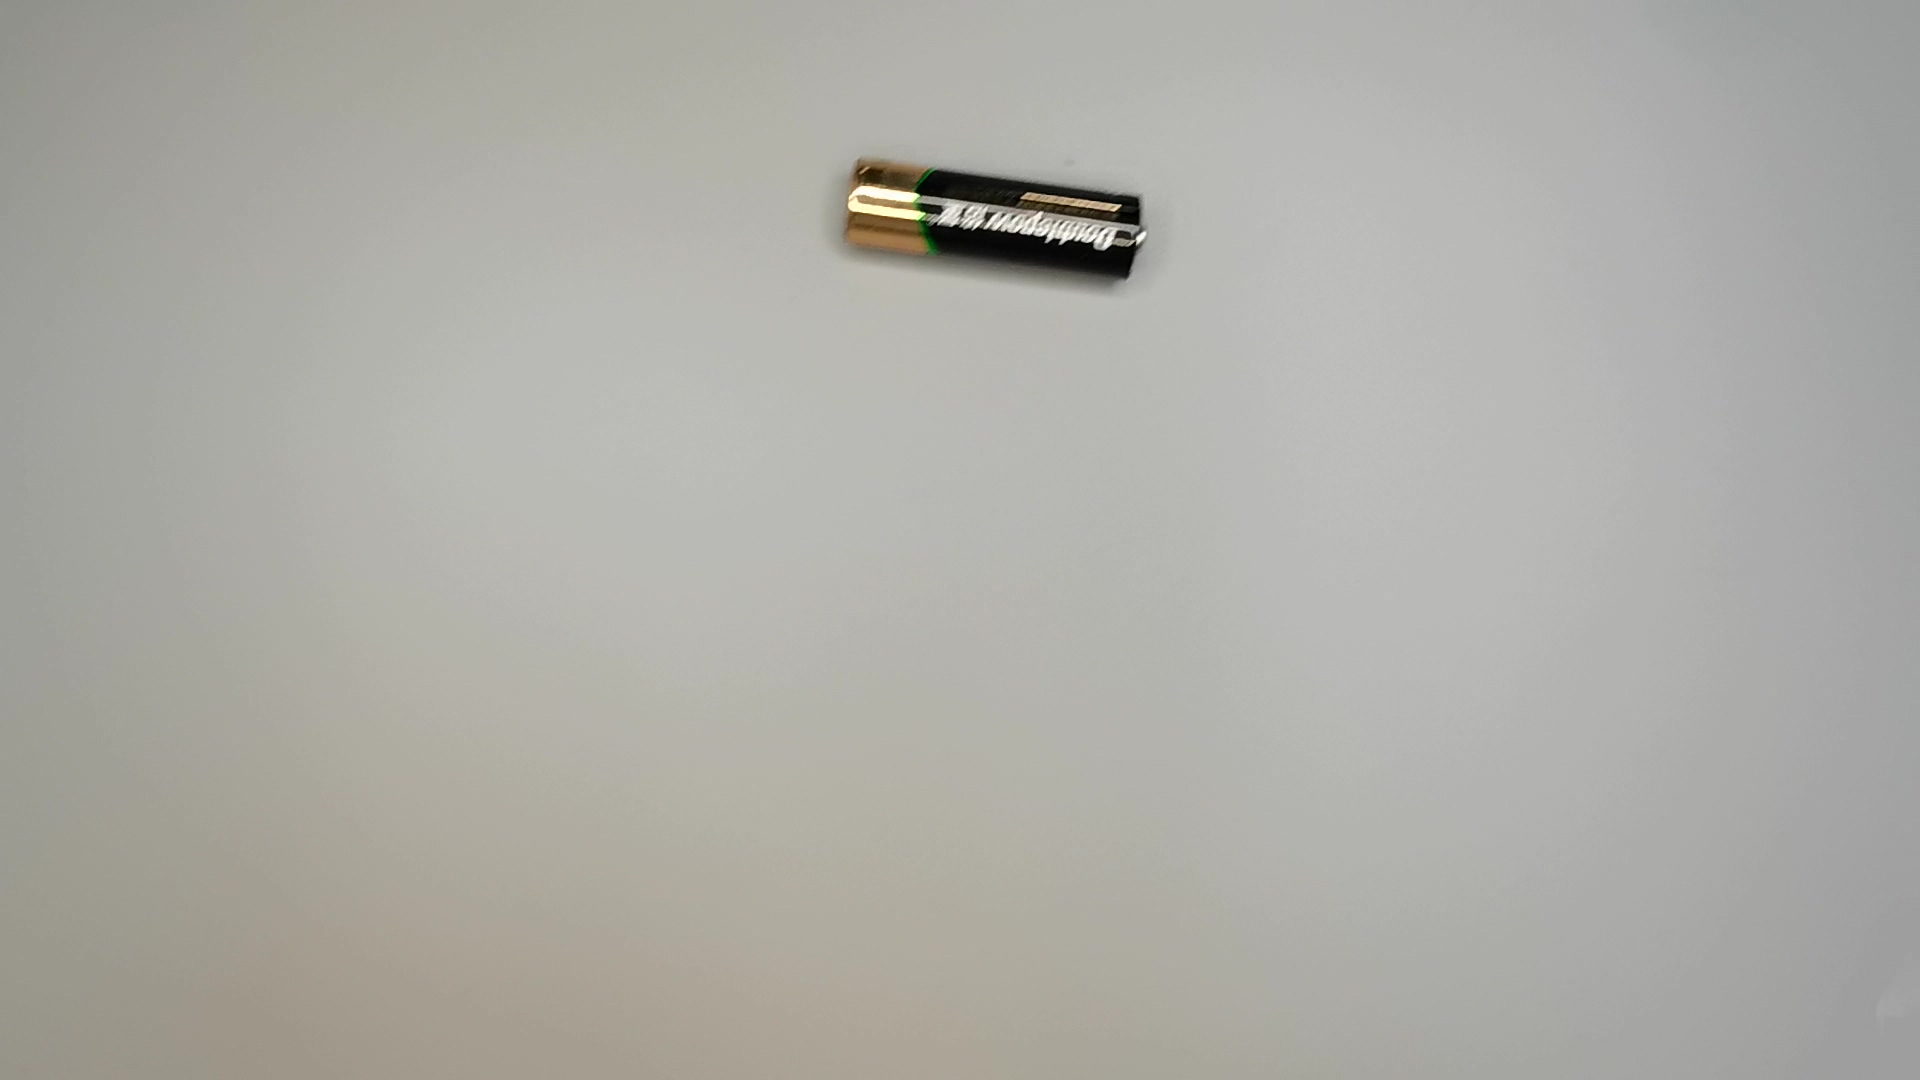battery: (837, 145, 1155, 285)
